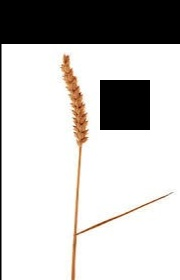wheat: (58, 51, 90, 156)
